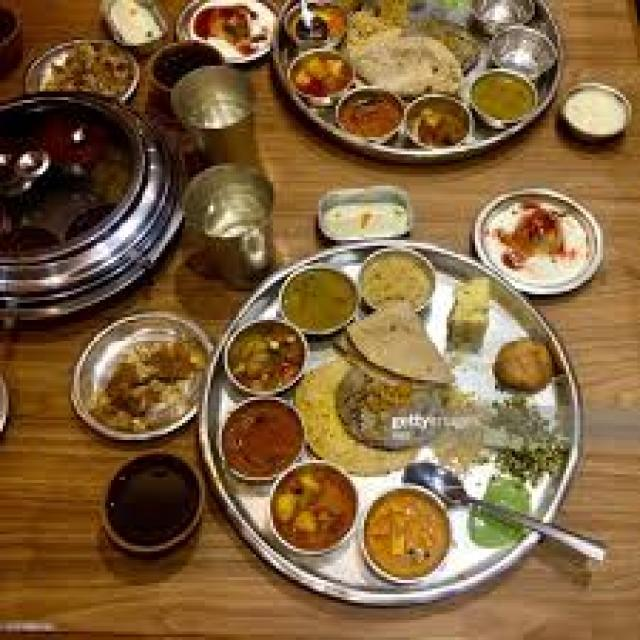curd: (555, 84, 640, 145)
dal: (272, 264, 360, 330), (465, 67, 545, 124)
papad: (433, 386, 582, 500), (345, 253, 461, 389)
pickle: (482, 194, 593, 289)
roti: (334, 6, 460, 99)
sweet: (81, 322, 210, 433), (7, 102, 141, 197), (217, 398, 307, 478), (483, 332, 568, 403), (186, 0, 276, 62), (463, 68, 547, 126), (330, 90, 409, 146), (288, 50, 355, 103), (288, 0, 352, 52)
